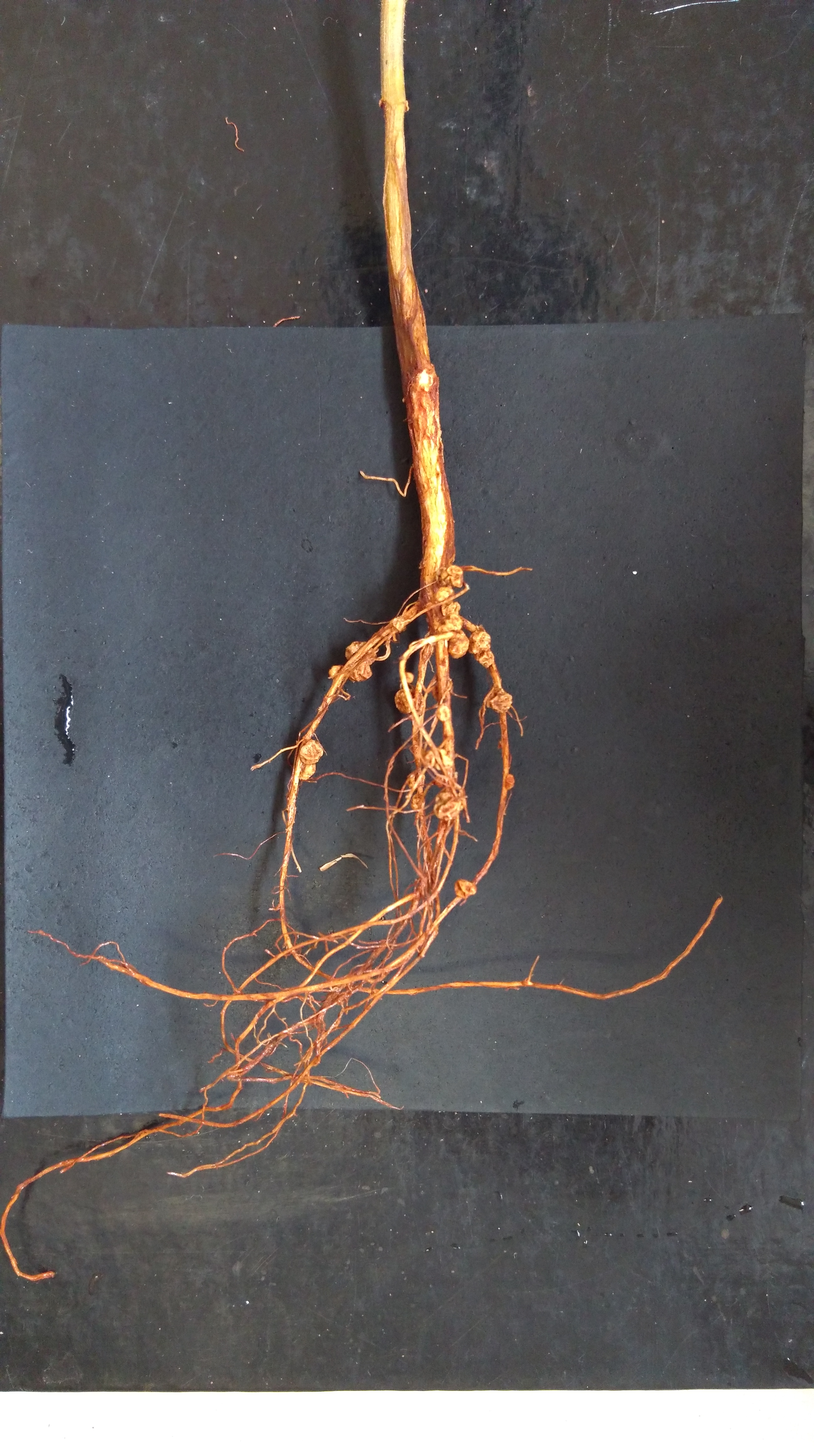nodule: (431, 788, 468, 824), (341, 638, 379, 667), (484, 687, 517, 716), (297, 736, 326, 766), (392, 687, 420, 717), (346, 659, 375, 687), (423, 746, 454, 772), (449, 628, 472, 662), (453, 876, 479, 903), (431, 674, 454, 701), (467, 630, 491, 655), (446, 561, 465, 591), (296, 762, 318, 784), (473, 647, 495, 668), (434, 585, 456, 602), (433, 705, 452, 724), (325, 662, 344, 678), (441, 601, 461, 616), (444, 614, 463, 629), (505, 772, 517, 793), (391, 615, 405, 632), (405, 668, 417, 684), (410, 794, 420, 809), (408, 773, 415, 787)
